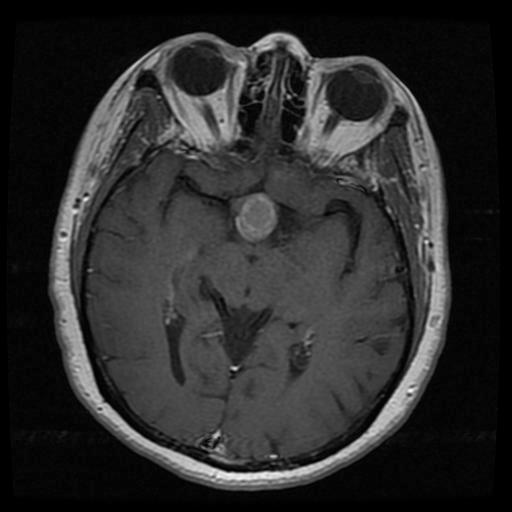Tumour-Pituitary: (234, 193, 278, 246)
